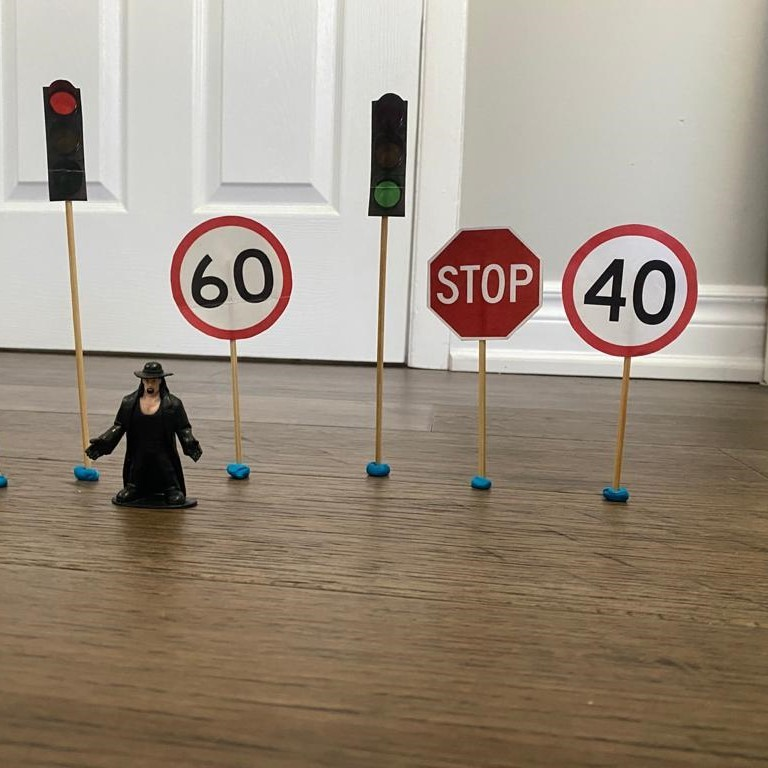Green Traffic Light: (363, 89, 415, 223)
Person: (84, 358, 209, 519)
Red Traffic Light: (37, 77, 89, 208)
Speed Limit 40: (560, 221, 701, 360)
Speed Limit 60: (165, 213, 297, 350)
Stop Sign: (420, 222, 546, 347)
